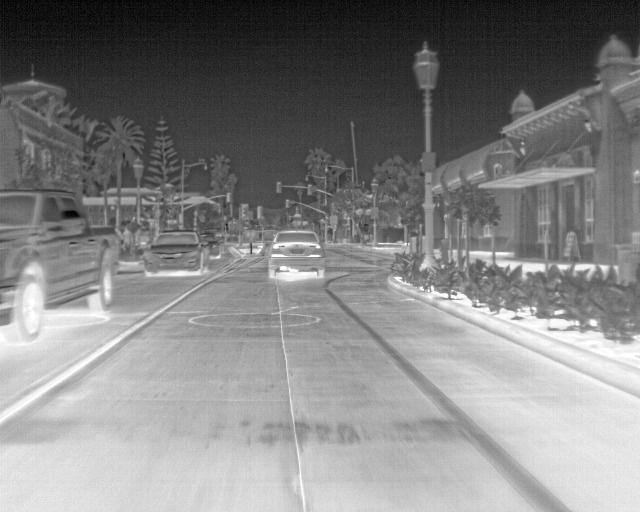bicycle: (3, 187, 123, 346), (140, 230, 207, 278), (267, 228, 327, 281), (197, 232, 220, 259)
